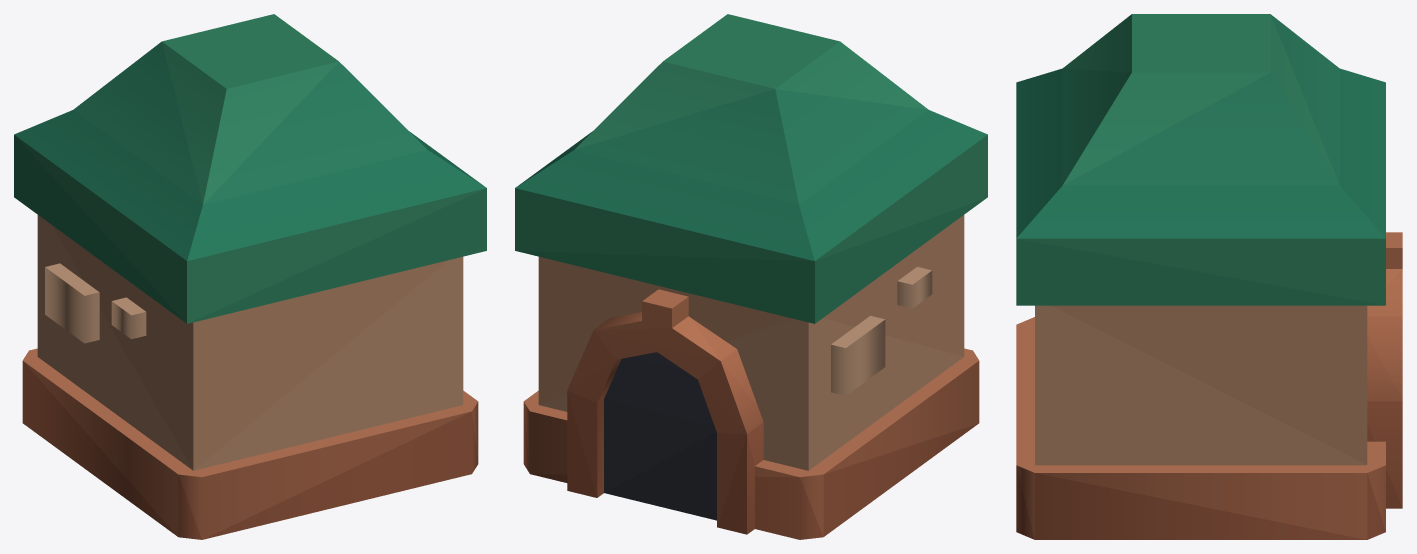
File: coaster_ride_exit.glb
3 renders of one model, left to right at view 1: azimuth 30°, elevation 25°; view 2: azimuth 150°, elevation 25°; view 3: azimuth 270°, elevation 25°, orthographic. The views are drawn at different scales.
Visible parts, largest first — view 1: coaster_ride_exit; view 2: coaster_ride_exit; view 3: coaster_ride_exit.
Part boxes in pixels (x1,y1,x2,y2): coaster_ride_exit: [14, 14, 486, 539]; coaster_ride_exit: [515, 14, 987, 539]; coaster_ride_exit: [1016, 14, 1402, 539].
Size of the model in its own units: 1 by 1.25 by 1.04.
